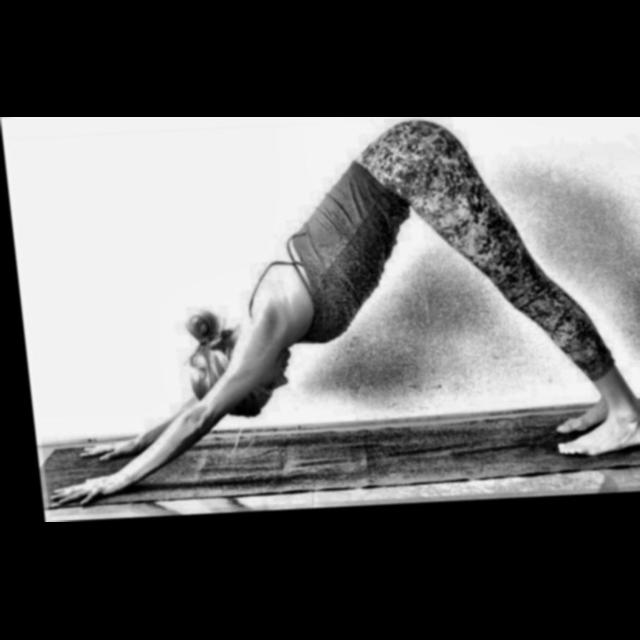Downward-Facing_Dog: (44, 118, 640, 509)
